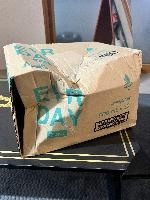damaged package: (9, 71, 45, 157)
undamaged: (0, 38, 145, 162)
